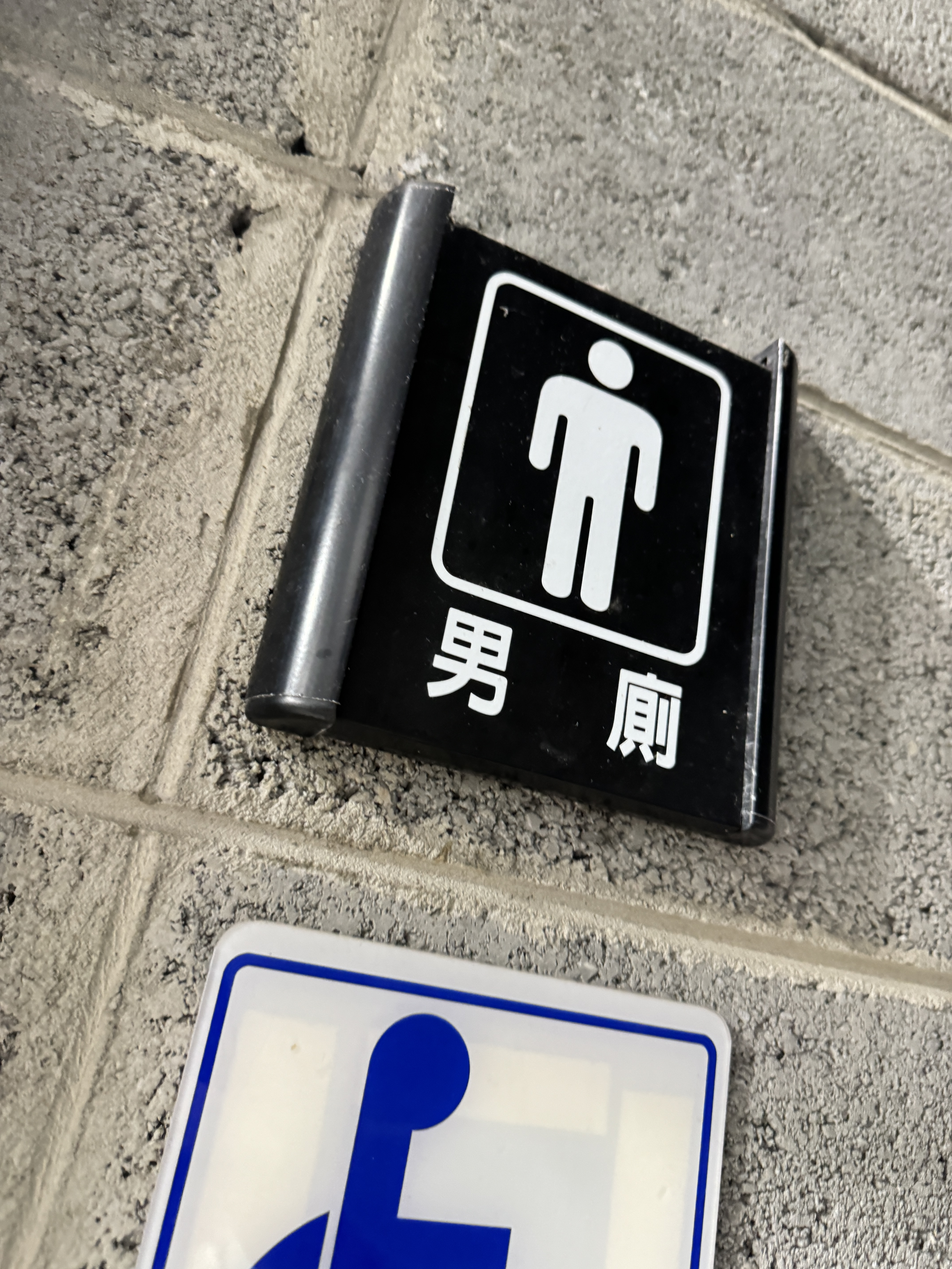toilet_sign: (242, 146, 798, 857), (265, 171, 821, 849)
